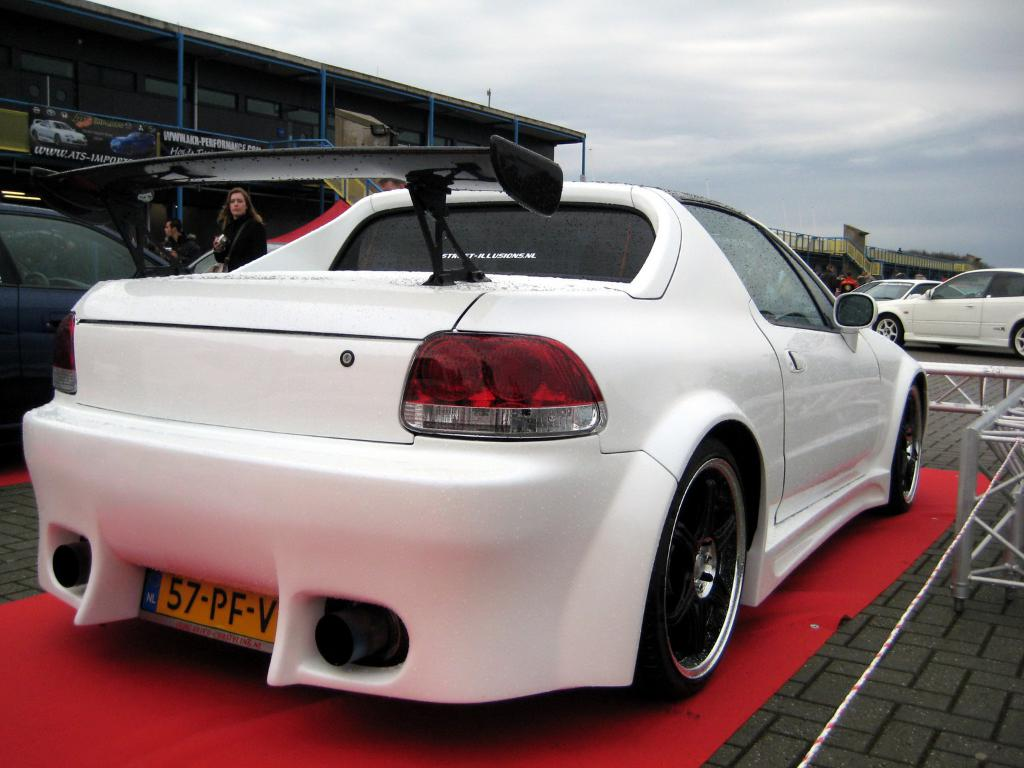Car: (28, 149, 935, 706), (0, 197, 190, 430), (867, 261, 1023, 359), (192, 240, 284, 277), (845, 276, 963, 303), (29, 120, 86, 144), (109, 133, 154, 148)
